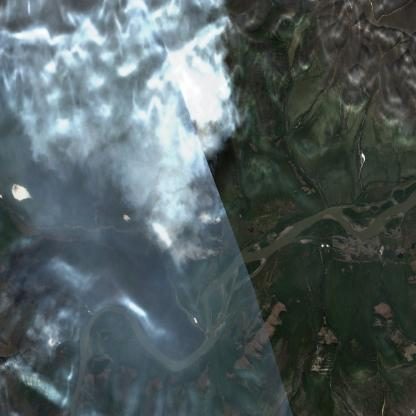fire: (168, 78, 230, 270), (43, 318, 84, 359)
